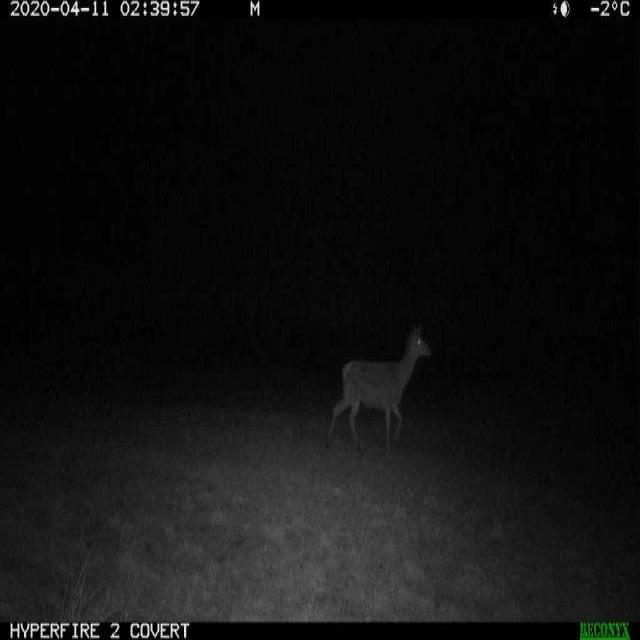deer: (332, 315, 436, 468)
